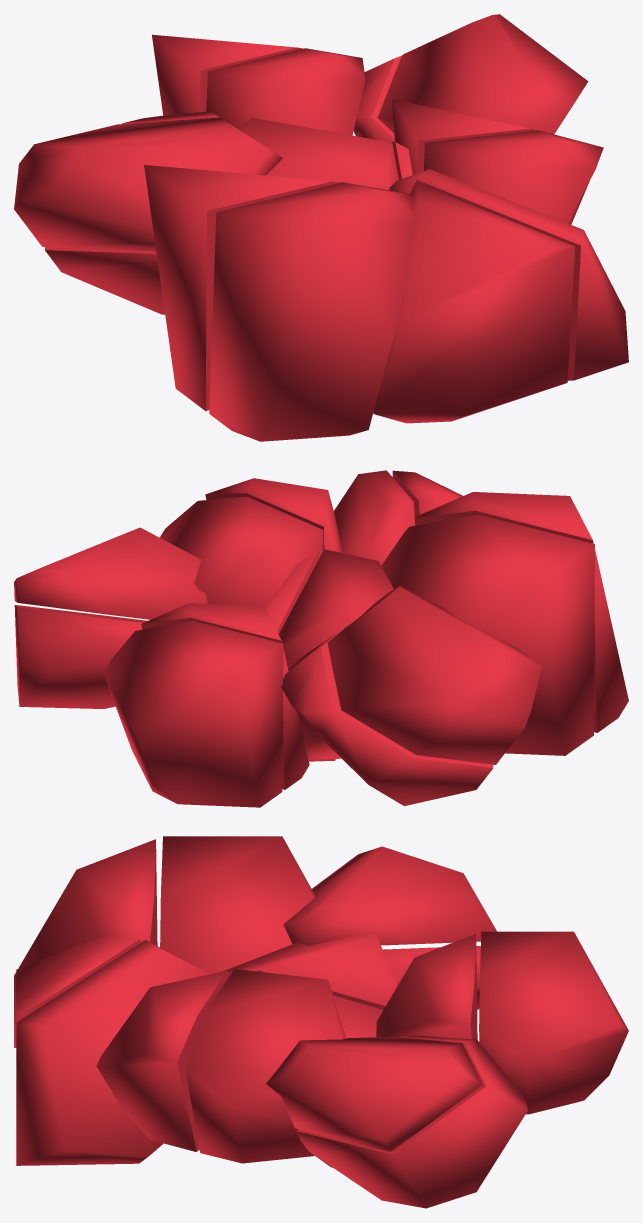
File: RubyGemSeperated.fbx
The picture shows the model from 3 angles, top to bottom: view 1: azimuth 30°, elevation 25°; view 2: azimuth 150°, elevation 25°; view 3: azimuth 270°, elevation 25°; orthographic projection. The views are drawn at different scales.
Parts seen in each view (by area): view 1: Stones.105_cell.003, Stones.105_cell.006, Stones.105_cell.001, Stones.105_cell.004, Stones.105_cell.009, Stones.105_cell.012, Stones.105_cell.014, Stones.105_cell.005, Stones.105_cell.008, Stones.105_cell.013, Stones.105_cell.011, Stones.105_cell.002 (+1 smaller); view 2: Stones.105_cell.004, Stones.105_cell.013, Stones.105_cell.001, Stones.105_cell.002, Stones.105_cell.009, Stones.105_cell.011, Stones.105_cell.010, Stones.105_cell.003, Stones.105_cell.008, Stones.105_cell.005, Stones.105_cell.012, Stones.105_cell.014 (+2 smaller); view 3: Stones.105_cell.005, Stones.105_cell.013, Stones.105_cell.002, Stones.105_cell.009, Stones.105_cell.004, Stones.105_cell.010, Stones.105_cell.001, Stones.105_cell.014, Stones.105_cell.003, Stones.105_cell.012, Stones.105_cell.008, Stones.105_cell.006 (+2 smaller).
Part boxes in pixels (x1,y1,x2,y2): Stones.105_cell.003: [209, 182, 414, 441]; Stones.105_cell.006: [373, 183, 575, 423]; Stones.105_cell.001: [14, 117, 282, 251]; Stones.105_cell.004: [144, 165, 339, 410]; Stones.105_cell.009: [377, 14, 588, 134]; Stones.105_cell.012: [206, 48, 365, 135]; Stones.105_cell.014: [424, 130, 603, 224]; Stones.105_cell.005: [389, 169, 628, 380]; Stones.105_cell.008: [239, 117, 398, 190]; Stones.105_cell.013: [152, 34, 302, 115]; Stones.105_cell.011: [45, 111, 238, 314]; Stones.105_cell.002: [392, 99, 536, 174]; Stones.105_cell.004: [381, 514, 594, 755]; Stones.105_cell.013: [104, 621, 283, 807]; Stones.105_cell.001: [327, 585, 541, 764]; Stones.105_cell.002: [160, 496, 323, 606]; Stones.105_cell.009: [14, 527, 208, 619]; Stones.105_cell.011: [281, 630, 493, 806]; Stones.105_cell.010: [14, 605, 147, 708]; Stones.105_cell.003: [414, 492, 628, 732]; Stones.105_cell.008: [278, 549, 393, 759]; Stones.105_cell.005: [334, 470, 415, 565]; Stones.105_cell.012: [141, 603, 309, 789]; Stones.105_cell.014: [205, 478, 342, 552]; Stones.105_cell.005: [16, 940, 209, 1165]; Stones.105_cell.013: [479, 931, 628, 1114]; Stones.105_cell.002: [185, 969, 346, 1163]; Stones.105_cell.009: [266, 1036, 482, 1151]; Stones.105_cell.004: [160, 836, 315, 974]; Stones.105_cell.010: [296, 1035, 527, 1208]; Stones.105_cell.001: [283, 846, 496, 945]; Stones.105_cell.014: [96, 970, 227, 1151]; Stones.105_cell.003: [14, 839, 157, 1047]; Stones.105_cell.012: [376, 934, 477, 1039]; Stones.105_cell.008: [222, 933, 397, 1009]; Stones.105_cell.006: [16, 935, 141, 1073].
Size of the model in its own units: 0.1982 by 0.0753 by 0.1997.
1 material, 1 textured.
